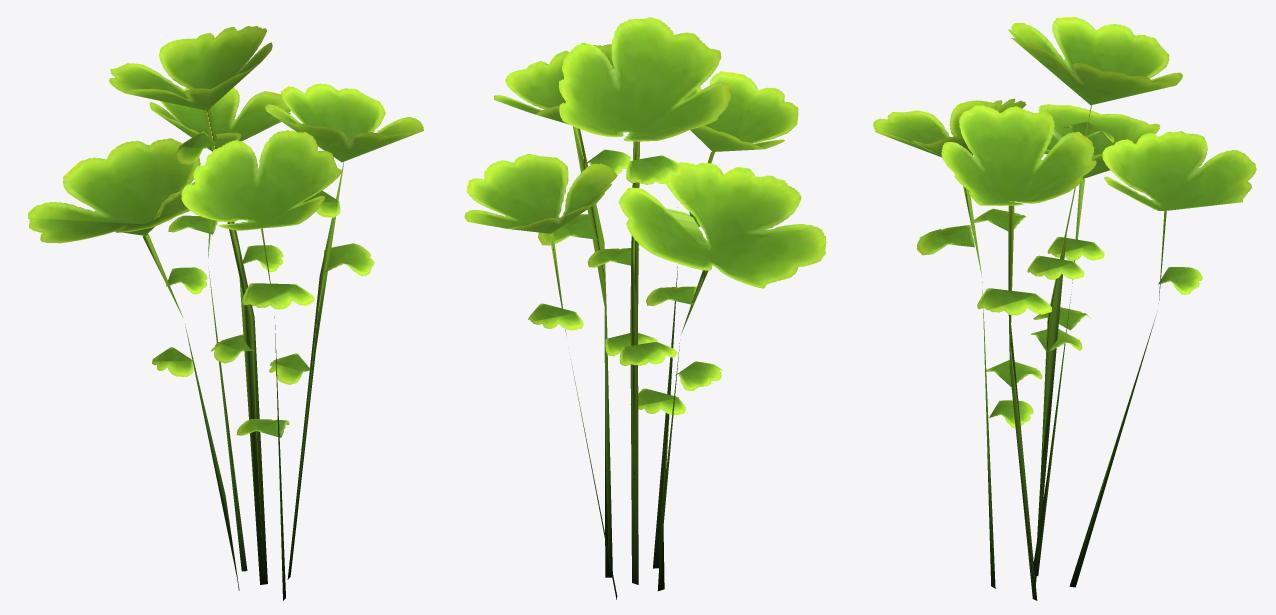
File: clover_2.glb
3 renders of one model, left to right at view 1: azimuth 30°, elevation 25°; view 2: azimuth 150°, elevation 25°; view 3: azimuth 270°, elevation 25°, orthographic. The views are drawn at different scales.
Visible parts, largest first — view 1: Clover_2; view 2: Clover_2; view 3: Clover_2.
Boxes of the visible parts, box(x1,y1,x2,y2) form: Clover_2: box(28, 26, 423, 600); Clover_2: box(464, 17, 826, 599); Clover_2: box(873, 17, 1256, 600).
Size of the model in its own units: 0.8511 by 1.26 by 0.8366.
Materials: 1 (1 with a texture image).
